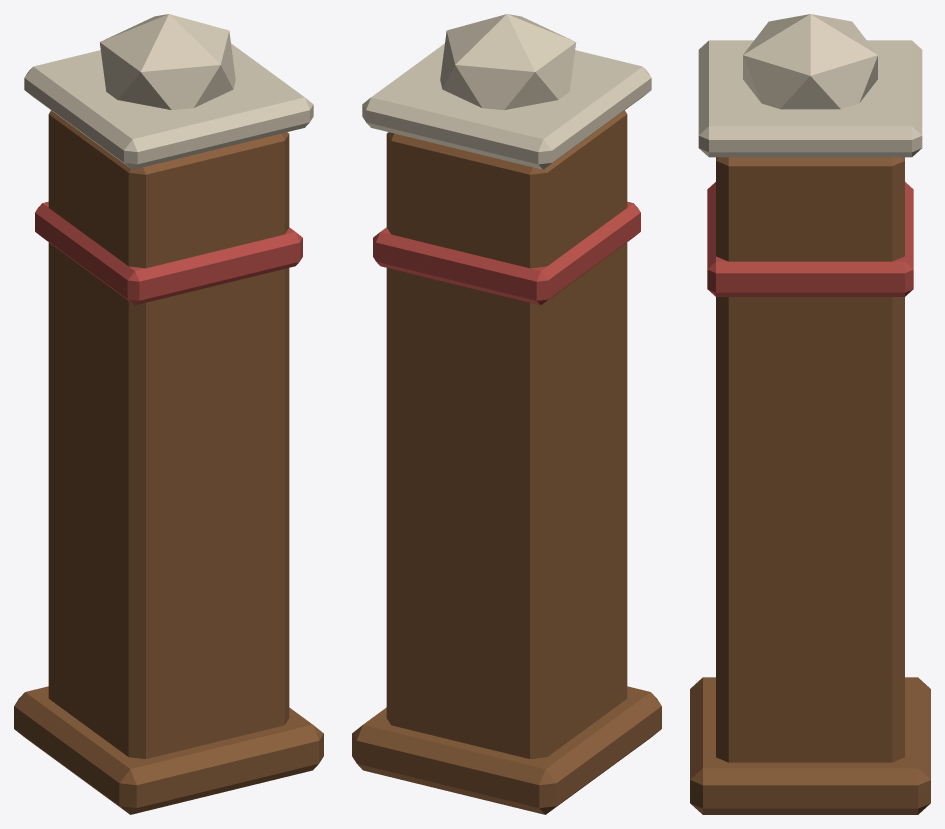
File: phoenix_corner_post.fbx
3 views of the same model, side by side, from view 1: azimuth 30°, elevation 25°; view 2: azimuth 150°, elevation 25°; view 3: azimuth 270°, elevation 25° (orthographic). The views are drawn at different scales.
Visible parts, largest first — view 1: phoenix_corner_post; view 2: phoenix_corner_post; view 3: phoenix_corner_post.
Boxes of the visible parts, x1=… form: phoenix_corner_post: x1=14, y1=14, x2=323, y2=814; phoenix_corner_post: x1=352, y1=14, x2=661, y2=814; phoenix_corner_post: x1=690, y1=14, x2=930, y2=814.
Size of the model in its own units: 2.8 by 9.69 by 2.8.
